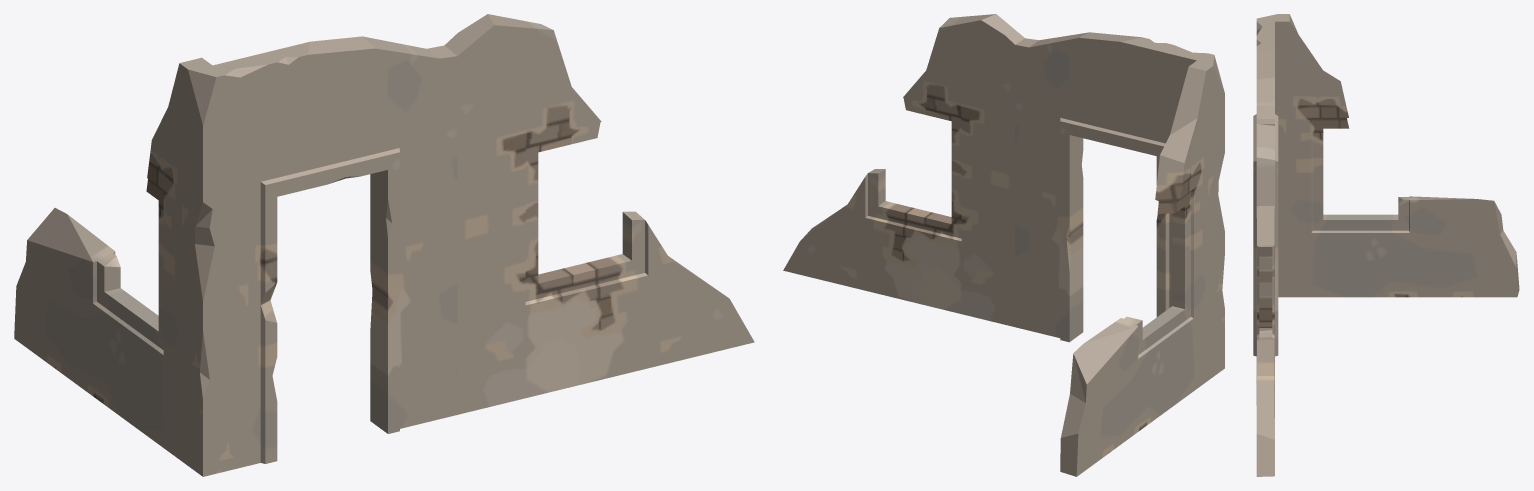
The model's file is SM_Bld_Ruins_02.glb.
3 views of the same model, side by side, from view 1: azimuth 30°, elevation 25°; view 2: azimuth 150°, elevation 25°; view 3: azimuth 270°, elevation 25° (orthographic). The views are drawn at different scales.
Parts seen in each view (by area): view 1: SM_Bld_Ruins_02; view 2: SM_Bld_Ruins_02; view 3: SM_Bld_Ruins_02.
Boxes of the visible parts, x1=… form: SM_Bld_Ruins_02: x1=14, y1=14, x2=754, y2=476; SM_Bld_Ruins_02: x1=783, y1=14, x2=1224, y2=476; SM_Bld_Ruins_02: x1=1253, y1=14, x2=1519, y2=476.
Size of the model in its own units: 6.11 by 4.2 by 3.67.
Materials: 1 (1 with a texture image).
